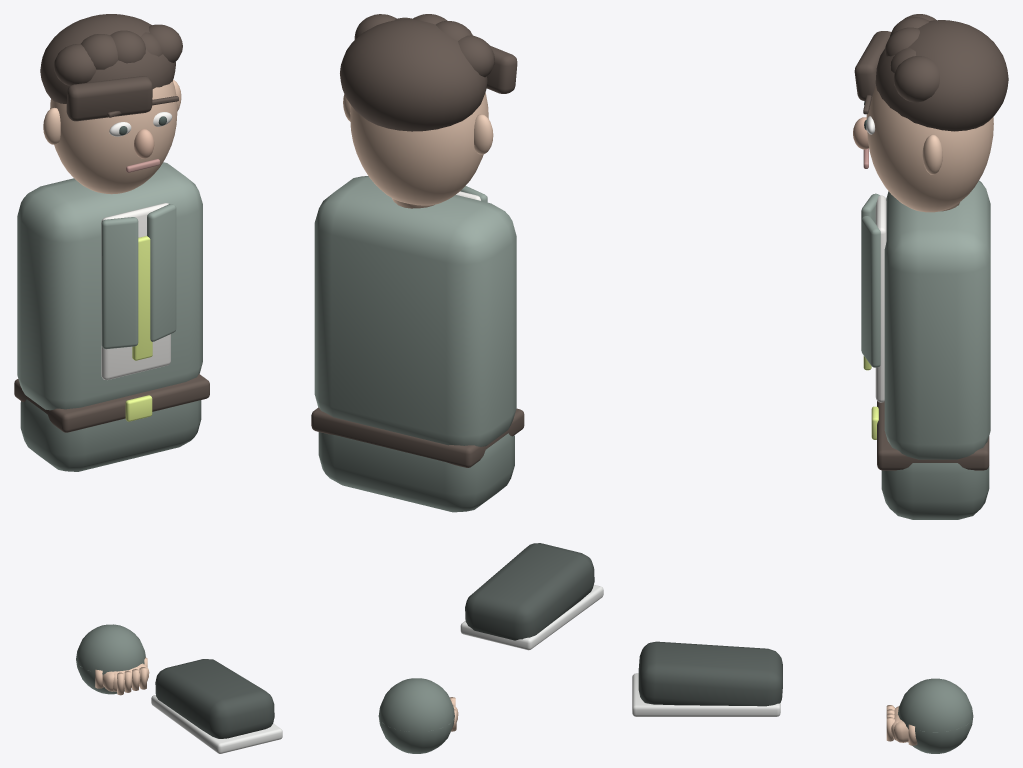
The picture shows the model from 3 angles, left to right: view 1: azimuth 30°, elevation 25°; view 2: azimuth 150°, elevation 25°; view 3: azimuth 270°, elevation 25°; orthographic projection. The views are drawn at different scales.
Visible parts, largest first — view 1: Torso, Pelvis, HeadMesh, ShoeL, LapelL, HairCap, LapelR, Belt, SideFringe, ThighL_cap_a, ShirtFront, SoleL (+8 smaller); view 2: Torso, HairCap, Pelvis, HeadMesh, ShoeL, ThighL_cap_a, Belt, SoleL, SideFringe, HairClump_0, ThighL_cap_b, EarL; view 3: Torso, HairCap, HeadMesh, ShoeL, Pelvis, ThighL_cap_a, LapelR, SoleL, Belt, HairClump_4, ShirtFront, SideFringe (+3 smaller).
Boxes of the visible parts, left/top/right/bottom form: Torso: left=17, top=162, right=202, bottom=410; Pelvis: left=20, top=399, right=201, bottom=471; HeadMesh: left=50, top=81, right=177, bottom=194; ShoeL: left=155, top=659, right=274, bottom=738; LapelL: left=101, top=217, right=138, bottom=349; HairCap: left=40, top=14, right=175, bottom=103; LapelR: left=147, top=204, right=176, bottom=341; Belt: left=14, top=374, right=209, bottom=432; SideFringe: left=66, top=76, right=152, bottom=121; ThighL_cap_a: left=76, top=624, right=145, bottom=694; ShirtFront: left=101, top=203, right=170, bottom=380; SoleL: left=151, top=695, right=282, bottom=753; Torso: left=314, top=176, right=516, bottom=446; HairCap: left=340, top=19, right=487, bottom=131; Pelvis: left=318, top=432, right=514, bottom=512; HeadMesh: left=350, top=92, right=488, bottom=205; ShoeL: left=465, top=543, right=594, bottom=640; ThighL_cap_a: left=378, top=678, right=454, bottom=753; Belt: left=311, top=407, right=524, bottom=467; SoleL: left=460, top=584, right=603, bottom=650; SideFringe: left=486, top=45, right=517, bottom=93; HairClump_0: left=458, top=35, right=494, bottom=77; ThighL_cap_b: left=380, top=680, right=445, bottom=753; EarL: left=474, top=114, right=493, bottom=154; Torso: left=884, top=180, right=990, bottom=459; HairCap: left=875, top=20, right=1008, bottom=131; HeadMesh: left=866, top=86, right=993, bottom=212; ShoeL: left=638, top=641, right=782, bottom=706; Pelvis: left=881, top=463, right=989, bottom=519; ThighL_cap_a: left=898, top=678, right=973, bottom=753; LapelR: left=861, top=215, right=880, bottom=367; SoleL: left=632, top=673, right=780, bottom=716; Belt: left=877, top=401, right=989, bottom=470; HairClump_4: left=893, top=56, right=939, bottom=102; ShirtFront: left=875, top=195, right=886, bottom=402; SideFringe: left=854, top=31, right=891, bottom=100.
Size of the model in its own units: 0.4429 by 1.77 by 0.838.
